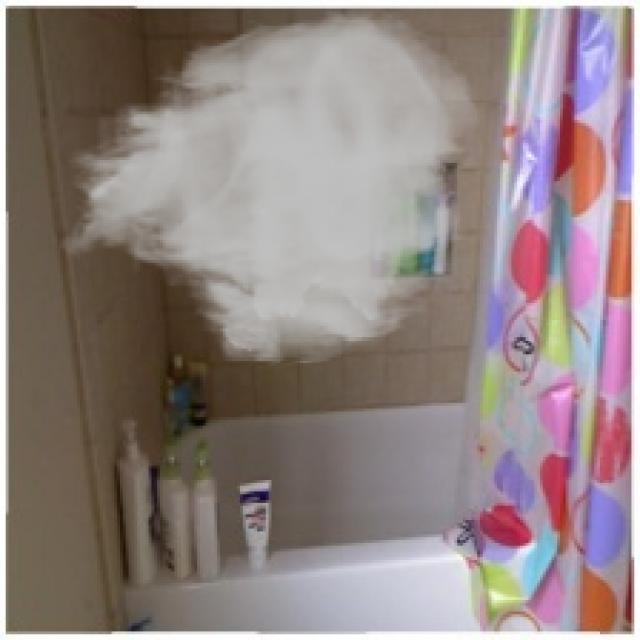Smoke: (57, 6, 483, 368)
